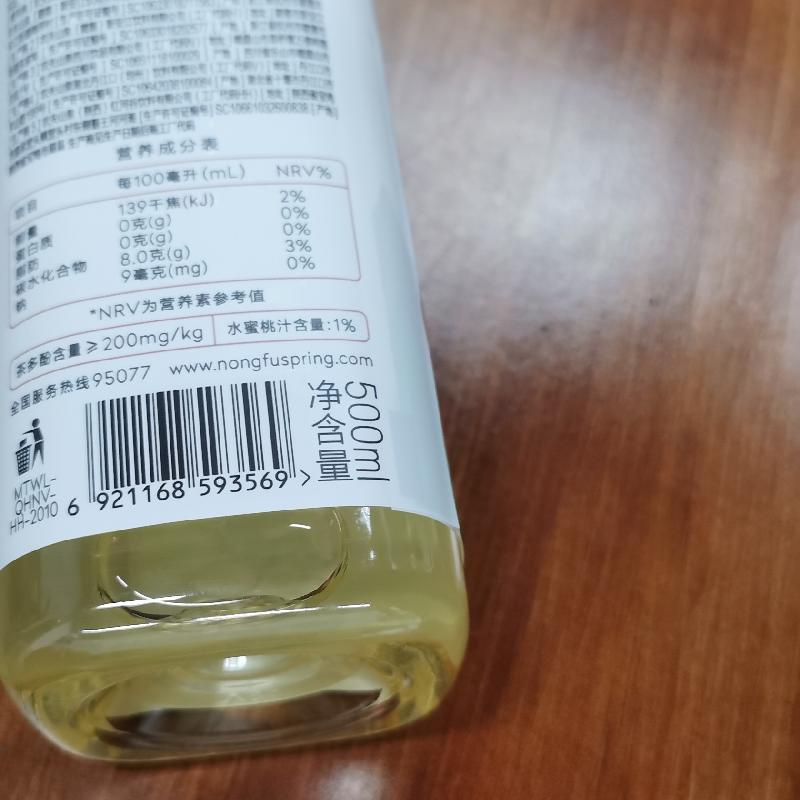bottles: (1, 6, 472, 762)
